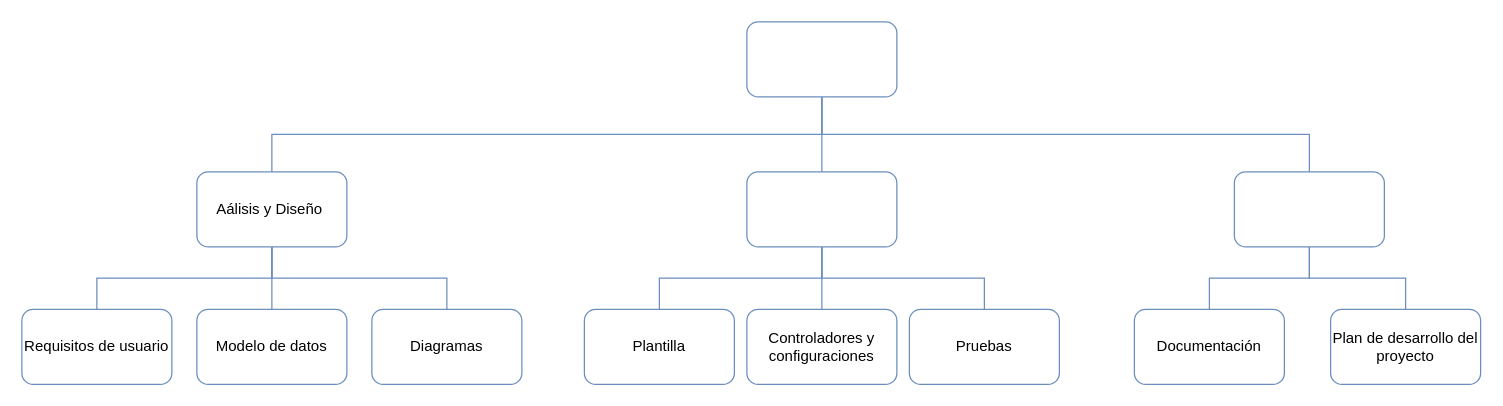
The diagram is 1503 pixels wide and 406 high, and some of its shapes have lost their labels. Each missing label, with the centre of its shape:
Desarrollo: (821,209)
Gestión del proyecto: (1308,209)
Hear Me UP: (821,59)
